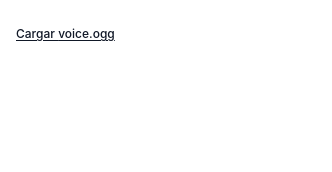
Test: private conversation content › loads audio on demand and offers a download fallback
Step 1. Click the button "Cargar voice.ogg" → (65, 34), box [12,12,119,56]
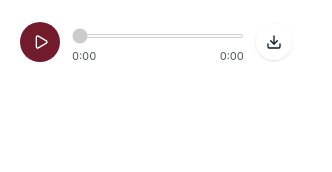
Expected: the link named "Descargar voice.ogg" is shown, [256,24,292,60]
